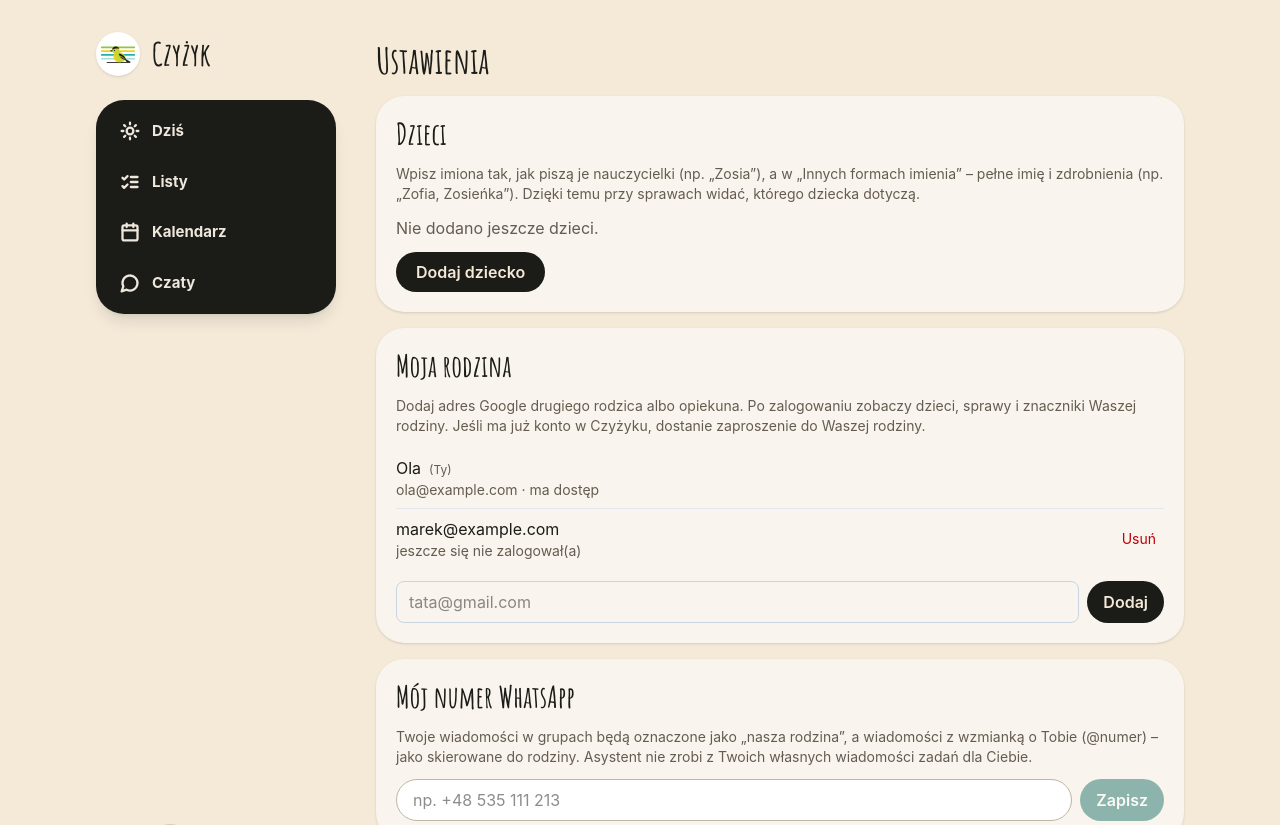
Test: Ustawienia → Moja rodzina › pokazuje członków, dodaje i usuwa adres (nie siebie)
Expected: the text "Ola" is shown, [396,458,421,478]
Expected: the text "jeszcze się nie zalogował(a)" is shown, [396,542,581,559]
Type "babcia@example.com" into the field named "Adres e-mail członka rodziny".
click(738, 602); type("babcia@example.com")  # box [396,581,1079,623]
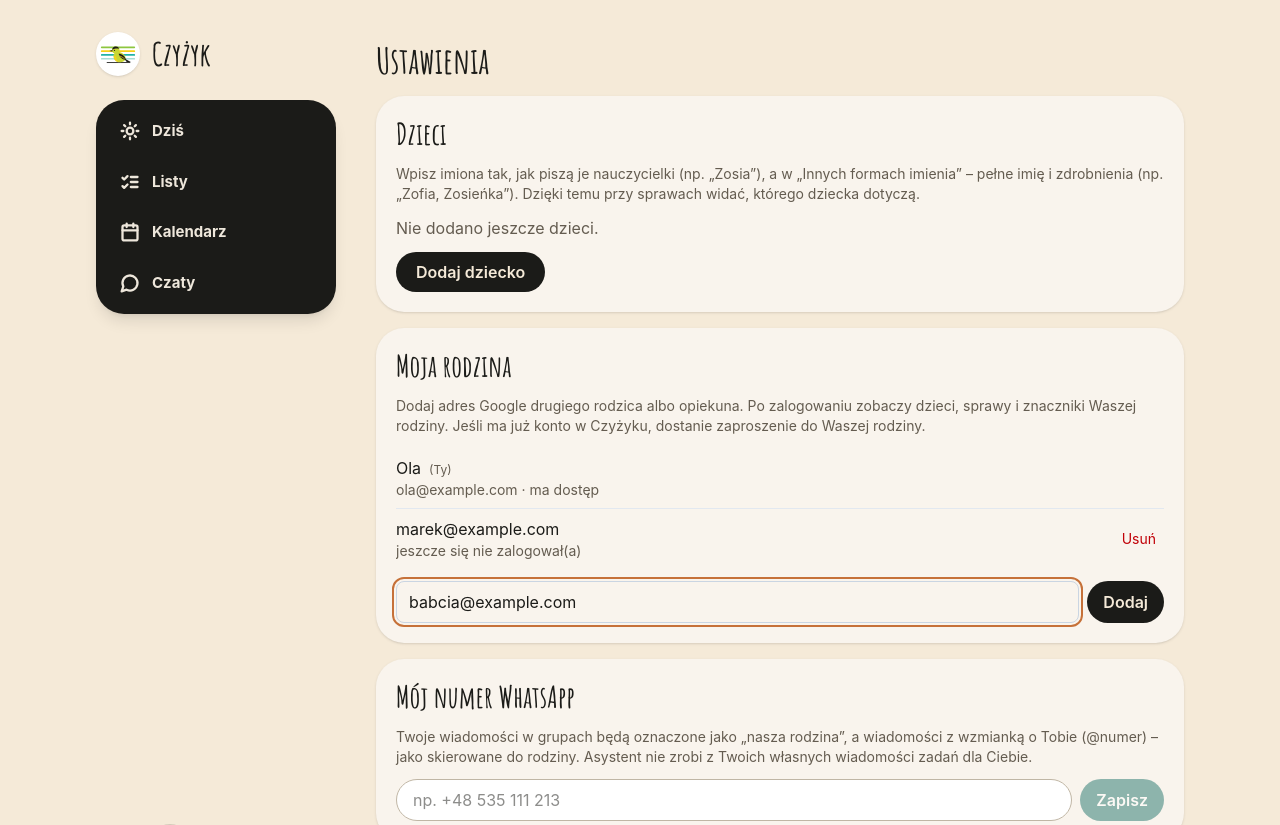
Click the button "Dodaj".
click(1126, 602)  # box [1087,581,1164,623]
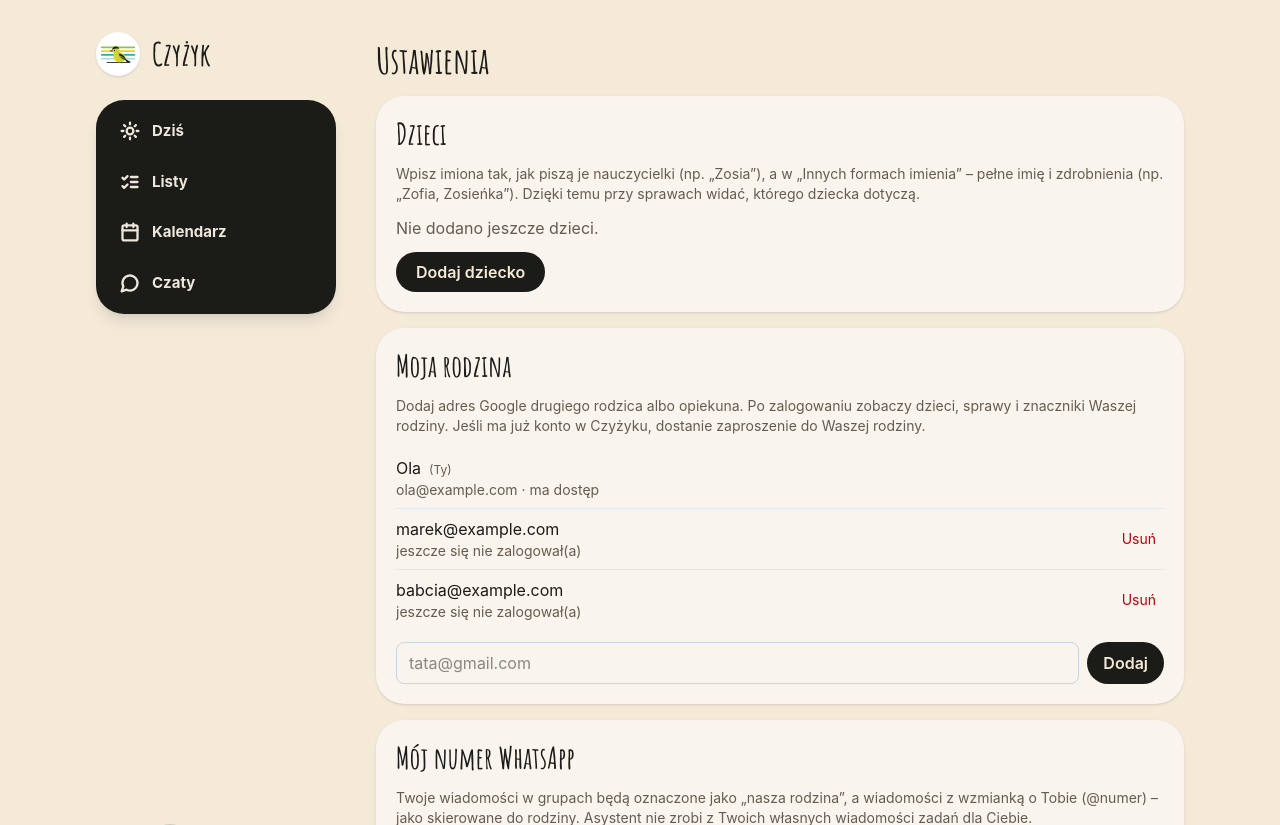
Expected: the text "babcia@example.com" is shown, [396,580,563,600]
Click the button with aria-label "Usuń marek@example.com".
click(1139, 539)  # box [1114,525,1164,553]
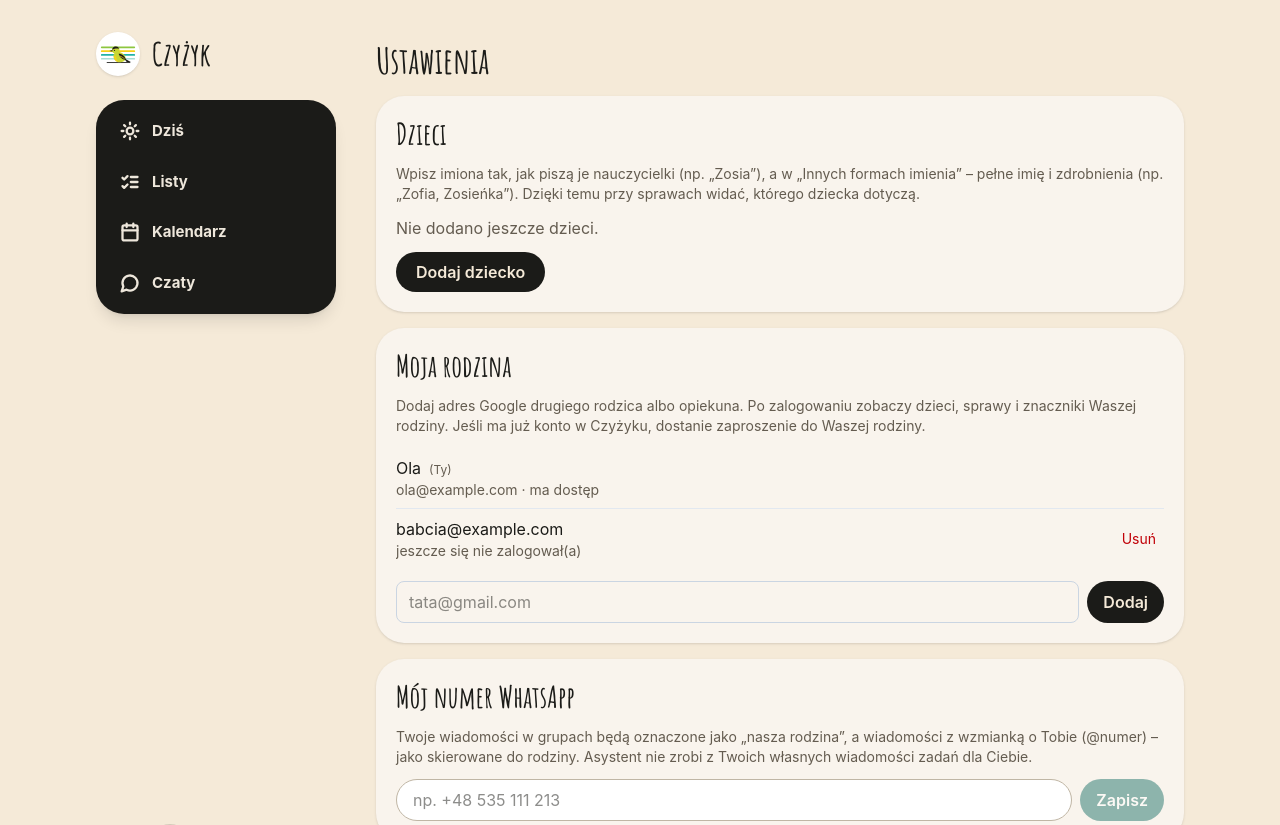
Expected: the text "marek@example.com" is gone
